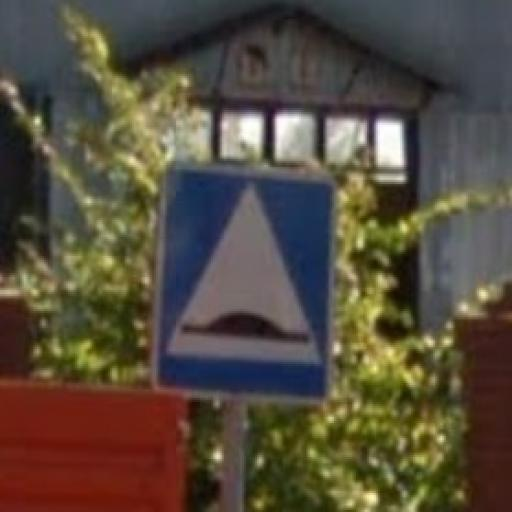traffic_sign: (153, 158, 339, 407)
